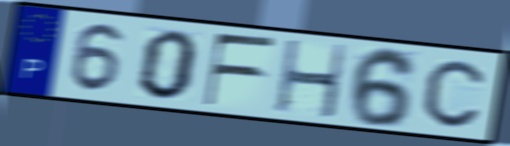0: (136, 27, 201, 102)
6: (347, 44, 420, 129), (69, 21, 126, 95)
C: (421, 58, 487, 130)
F: (201, 31, 280, 109)
H: (273, 38, 349, 122)
